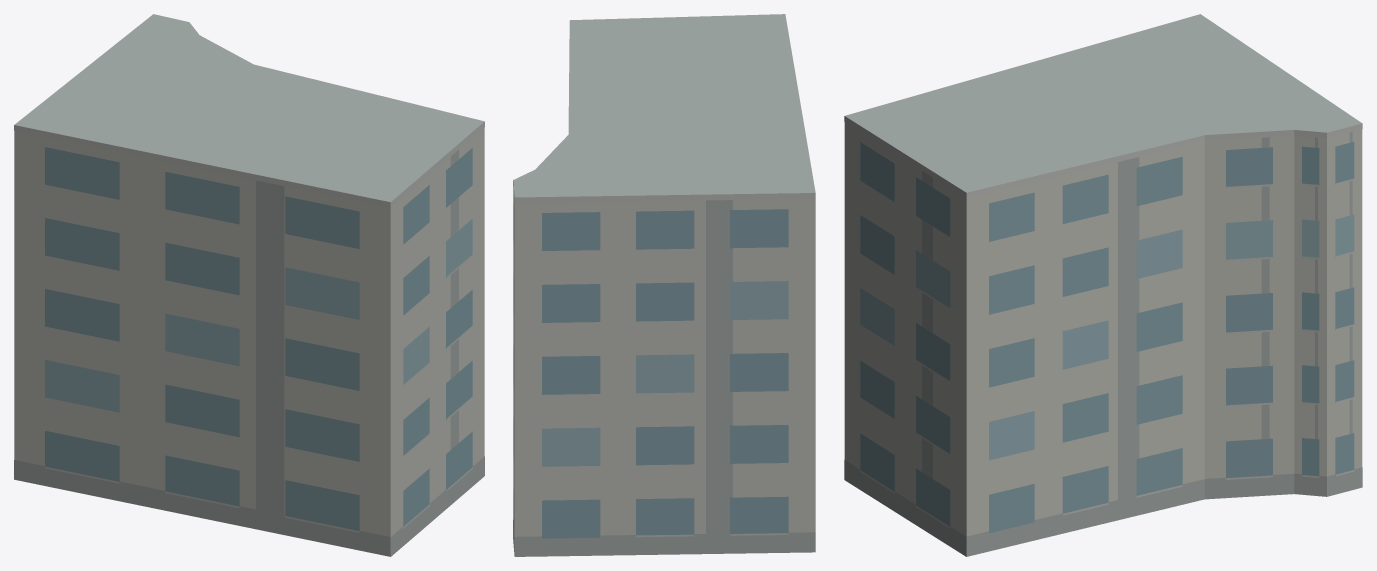
Rendered from residential-3821c1b5-f284-42fd-a0b1-66bb031907f9.glb.
3 views of the same model, side by side, from view 1: azimuth 30°, elevation 25°; view 2: azimuth 150°, elevation 25°; view 3: azimuth 270°, elevation 25° (orthographic). The views are drawn at different scales.
Visible parts, largest first — view 1: residential-3821c1b5-f284-42fd-a0b1-66bb031907f9.tmp; view 2: residential-3821c1b5-f284-42fd-a0b1-66bb031907f9.tmp; view 3: residential-3821c1b5-f284-42fd-a0b1-66bb031907f9.tmp.
Boxes of the visible parts, left/top/right/bottom form: residential-3821c1b5-f284-42fd-a0b1-66bb031907f9.tmp: left=14, top=14, right=484, bottom=556; residential-3821c1b5-f284-42fd-a0b1-66bb031907f9.tmp: left=513, top=14, right=815, bottom=556; residential-3821c1b5-f284-42fd-a0b1-66bb031907f9.tmp: left=844, top=14, right=1362, bottom=556.
Bounding box in the file's own units: 15.68 × 14.89 × 19.2.
